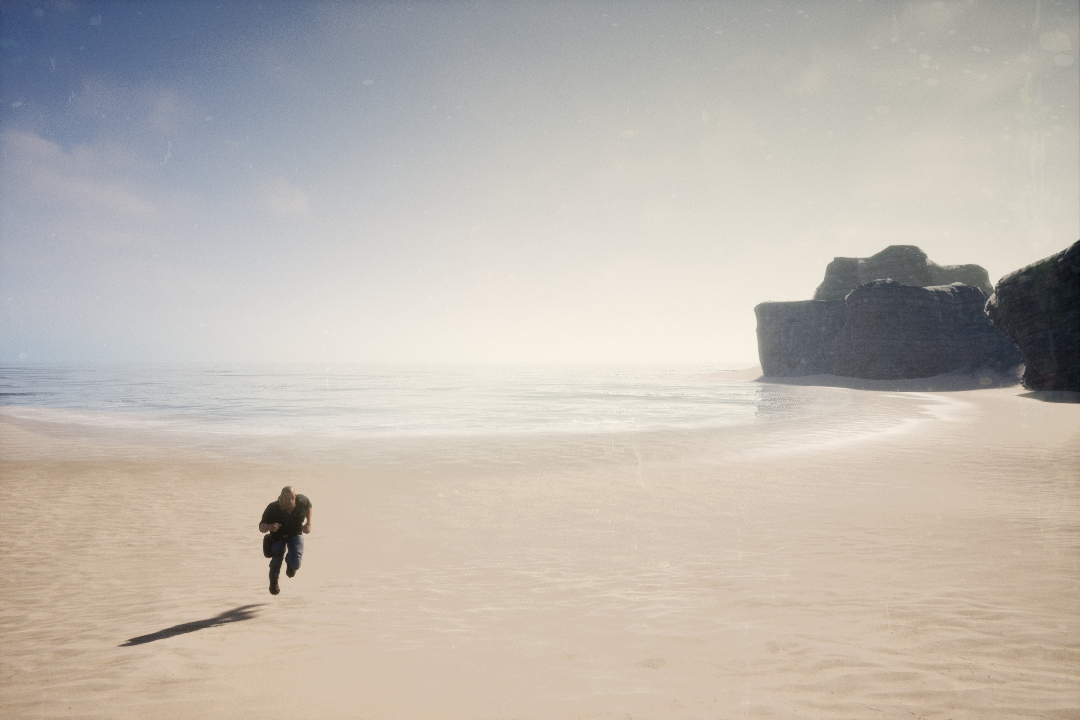person: (257, 477, 315, 604)
